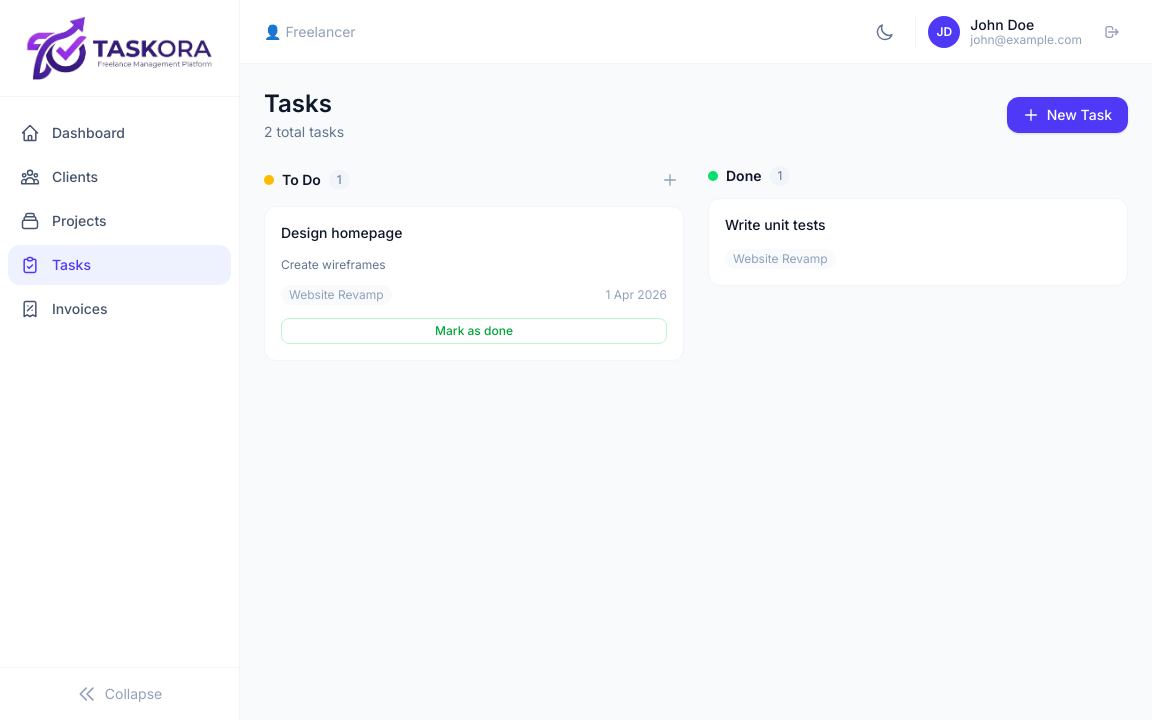
Tasks Page › opens the New Task modal when clicking New Task button
Click the button "New Task" at (1068, 115), box top-left (1007, 97), bottom-right (1128, 133)
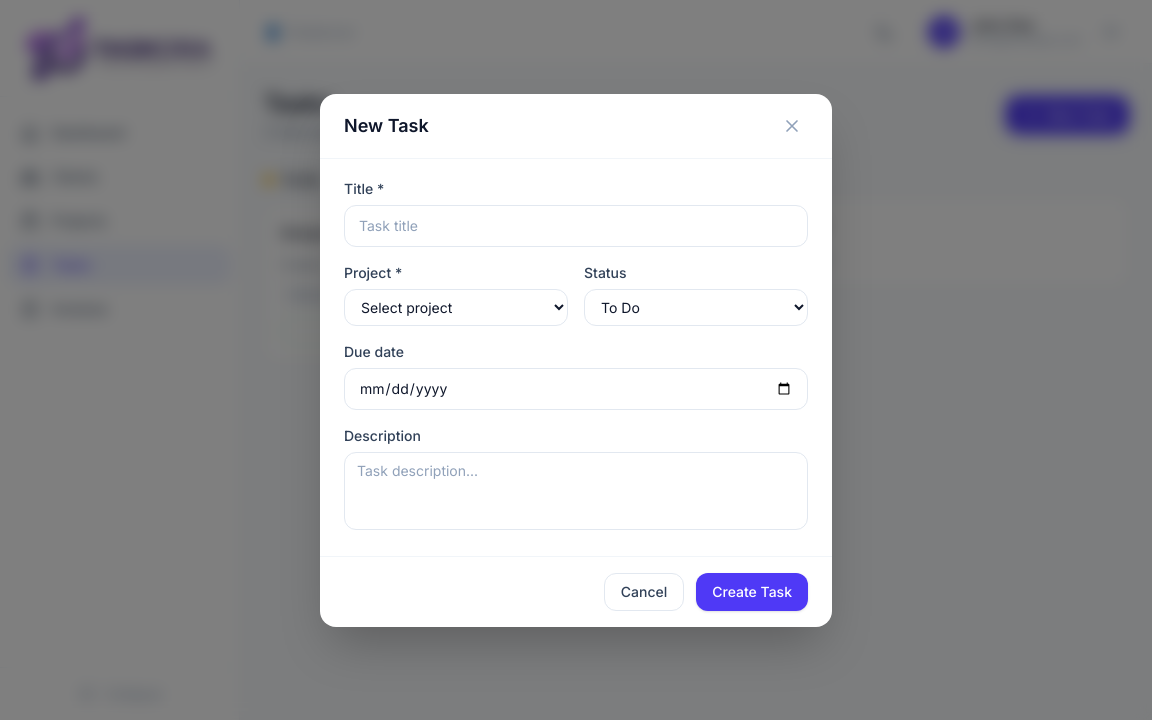
Expected: the field with placeholder "Task title" is shown, top-left (344, 204), bottom-right (808, 246)
